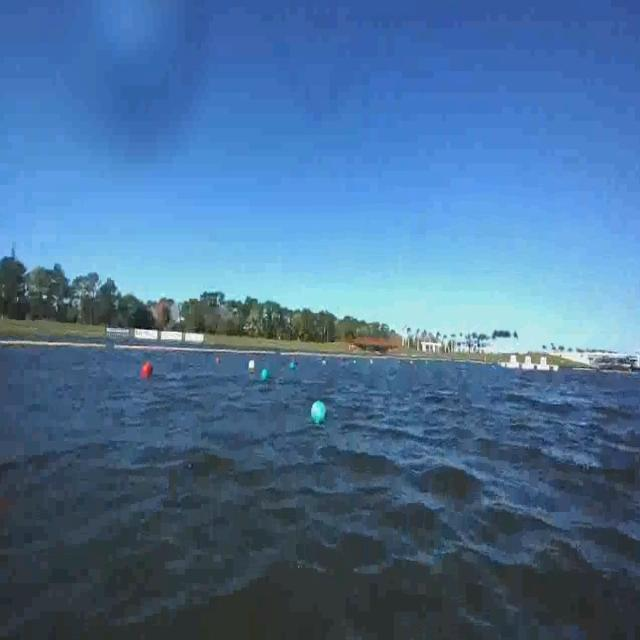green-buoy: (312, 402, 328, 425), (263, 366, 271, 379)
red-buoy: (141, 361, 154, 378)
